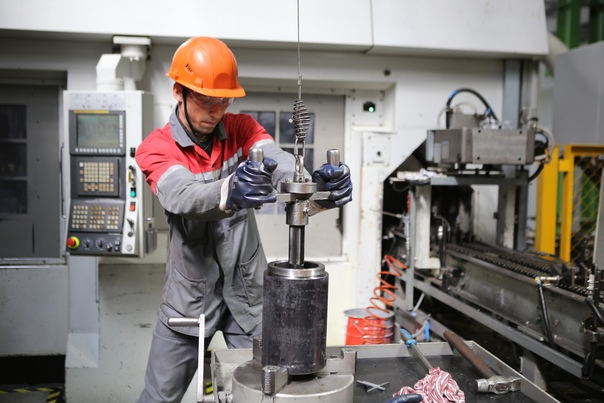person: (134, 36, 354, 403)
